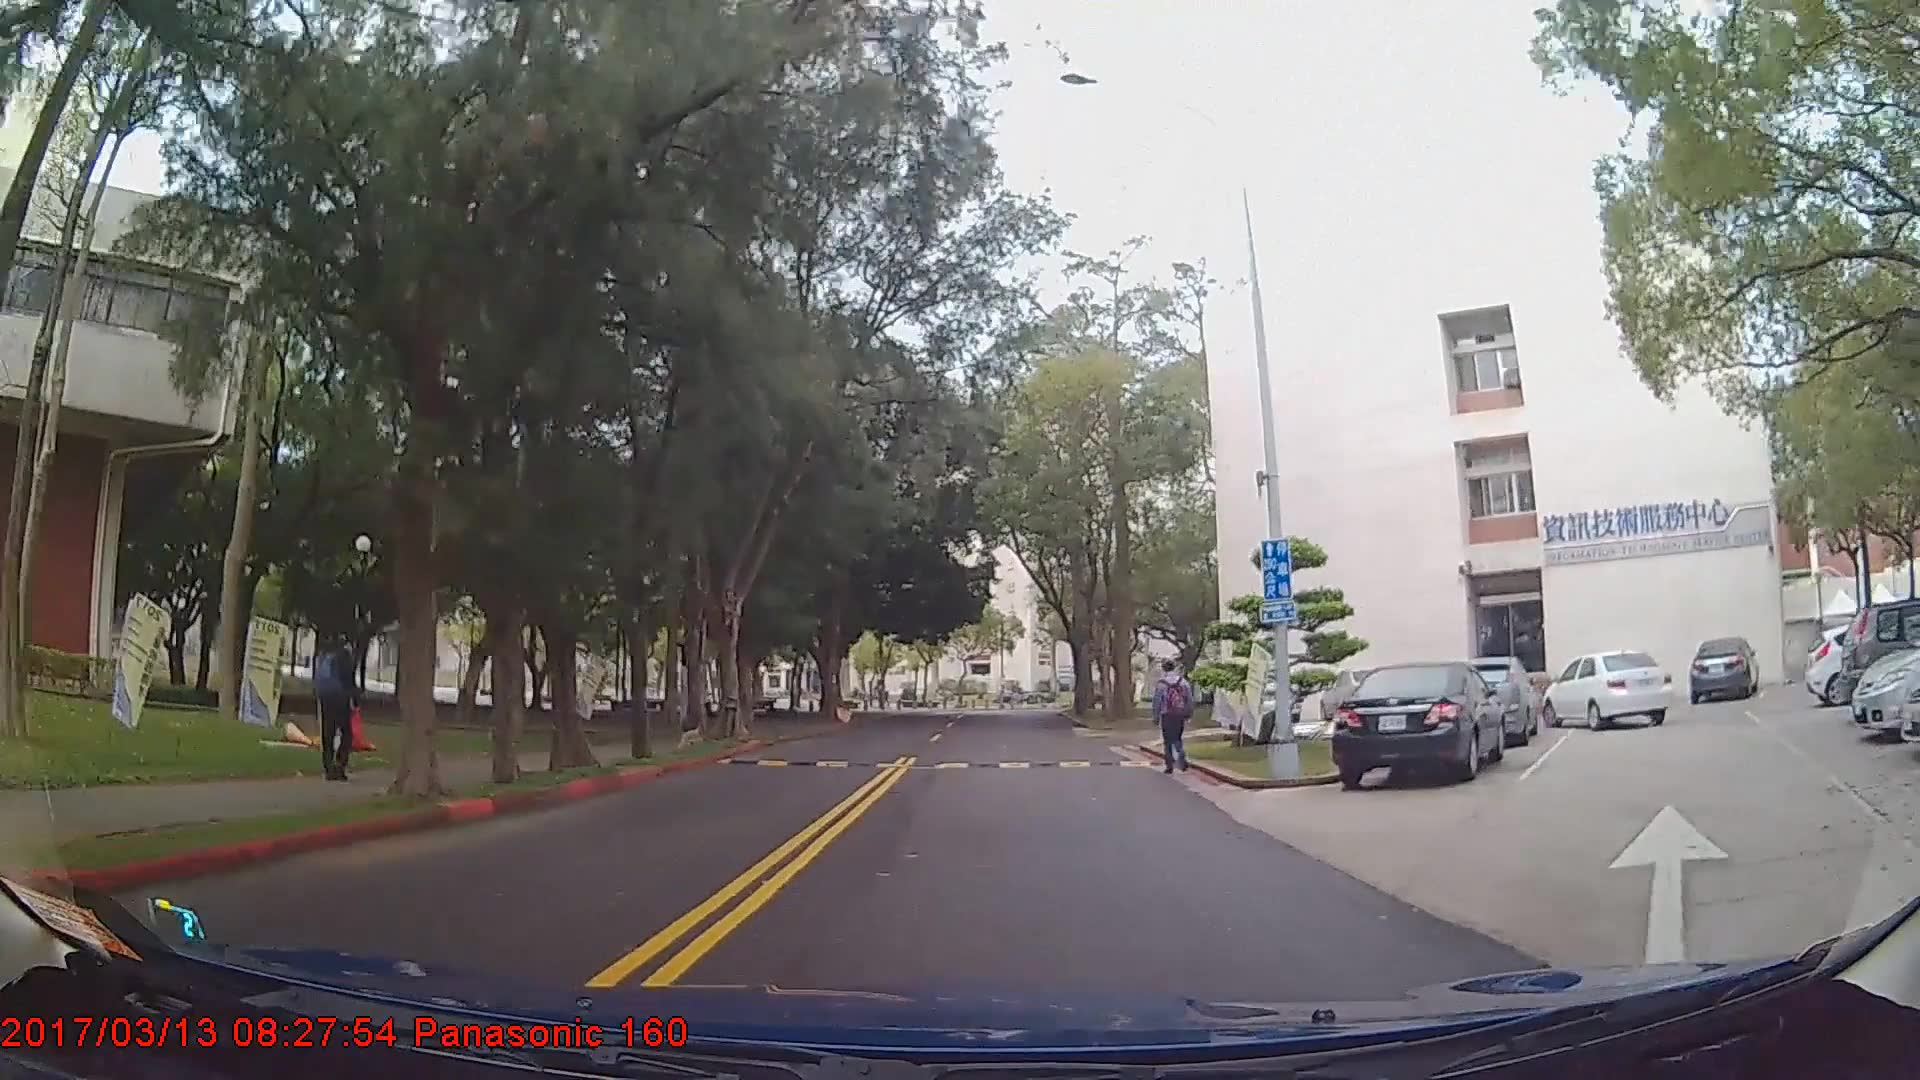pedestrian: (314, 619, 382, 787), (1157, 660, 1200, 781)
vehicle: (1332, 662, 1506, 793), (1542, 650, 1671, 732), (1837, 596, 1920, 714), (1688, 635, 1756, 706)
